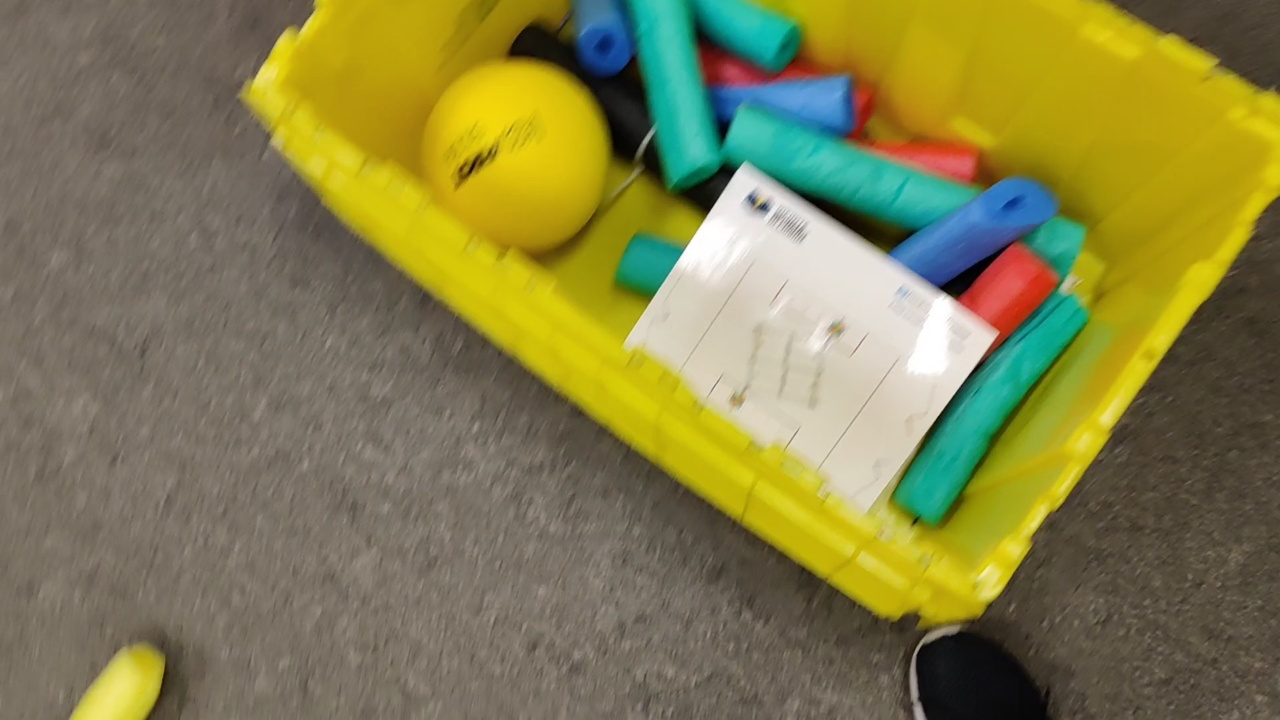Ball: (423, 63, 607, 251)
